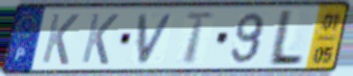9: (231, 10, 267, 66)
K: (78, 11, 121, 67), (39, 12, 82, 67)
L: (264, 7, 307, 68)
T: (182, 10, 216, 66)
V: (136, 11, 178, 66)
